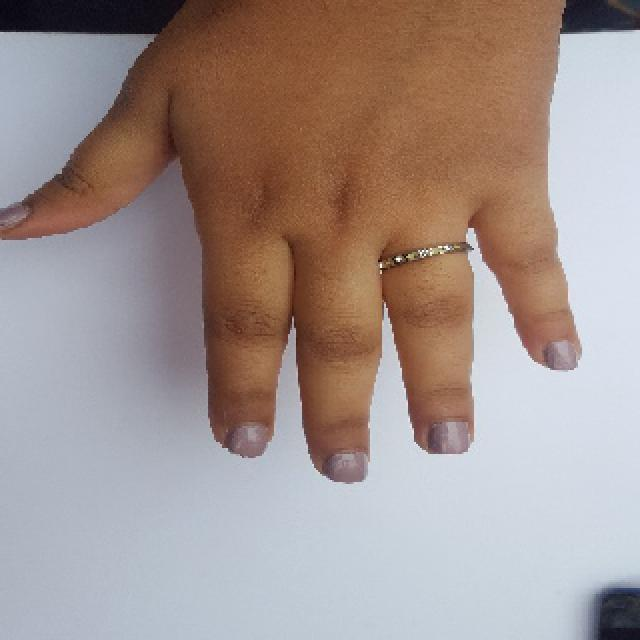Nail: (228, 422, 271, 458), (325, 450, 369, 483), (429, 421, 470, 454), (544, 340, 578, 370), (0, 202, 31, 228)
